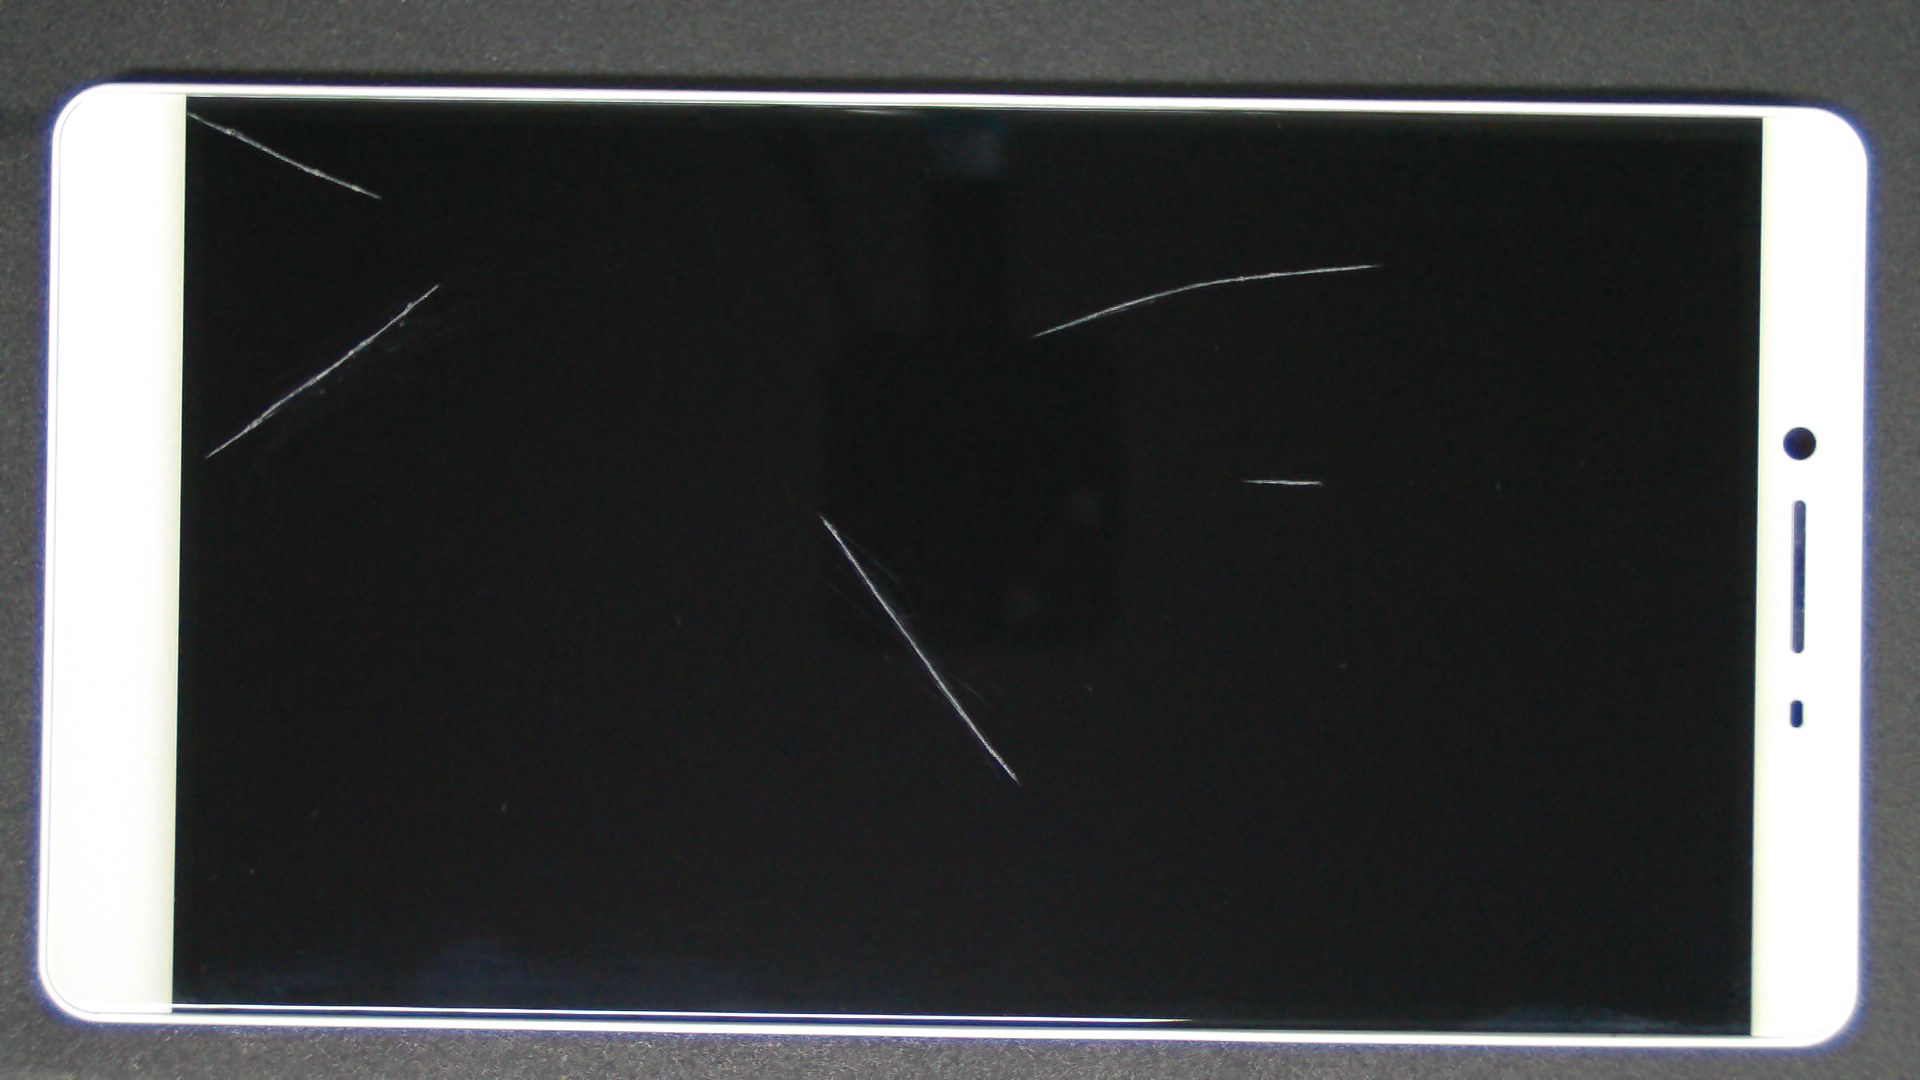defect: (818, 513, 1019, 785), (204, 284, 439, 459), (1033, 264, 1379, 339), (187, 111, 382, 199), (1242, 477, 1323, 487)
